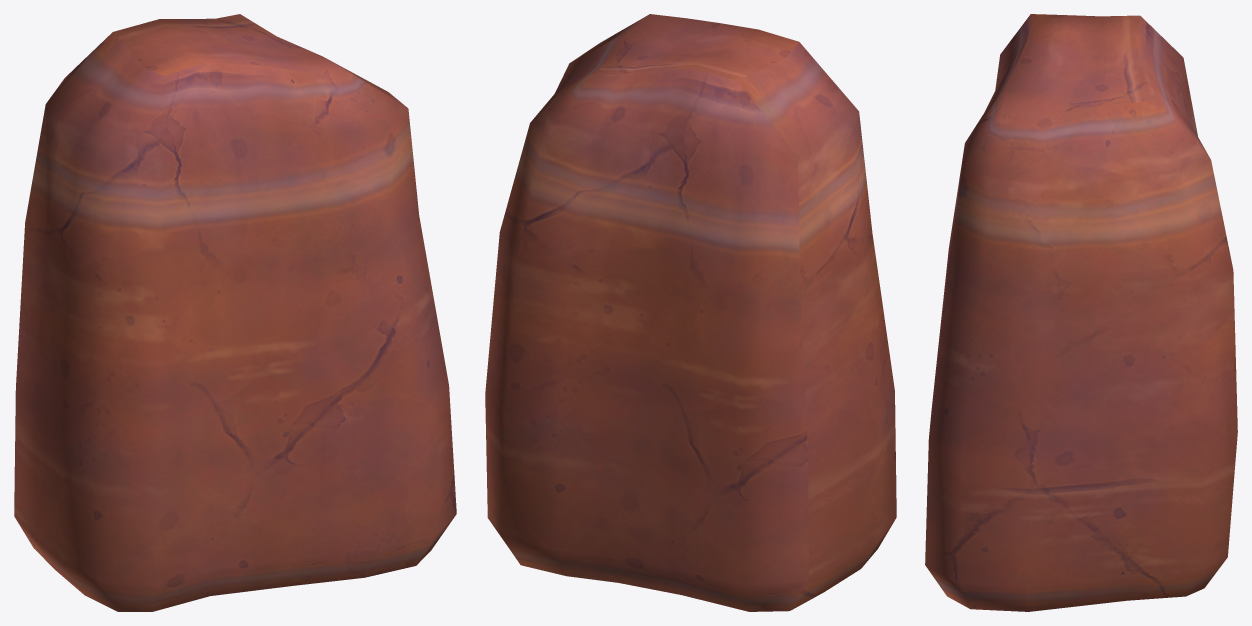
File: SM_Cliff03.fbx
3 renders of one model, left to right at view 1: azimuth 30°, elevation 25°; view 2: azimuth 150°, elevation 25°; view 3: azimuth 270°, elevation 25°, orthographic. The views are drawn at different scales.
Parts seen in each view (by area): view 1: SM_Cliff03; view 2: SM_Cliff03; view 3: SM_Cliff03.
Boxes of the visible parts, left/top/right/bottom form: SM_Cliff03: left=14, top=14, right=456, bottom=611; SM_Cliff03: left=485, top=14, right=896, bottom=611; SM_Cliff03: left=925, top=14, right=1237, bottom=611.
Size of the model in its own units: 600 by 829 by 481.
